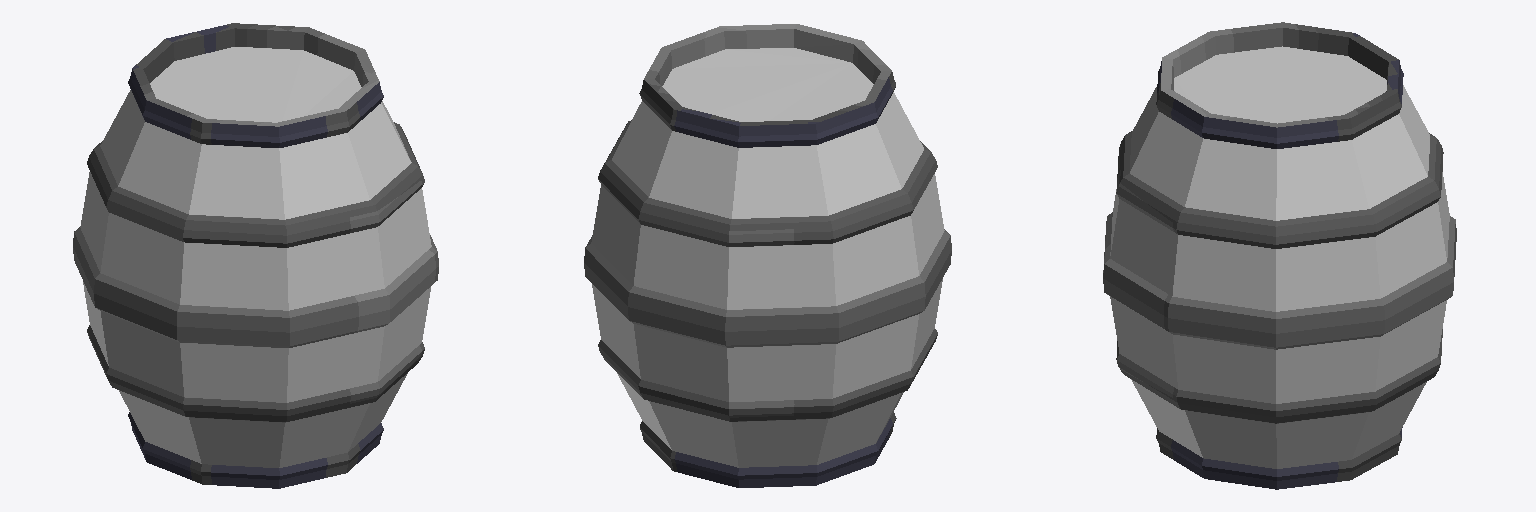
3 views of the same model, side by side, from view 1: azimuth 30°, elevation 25°; view 2: azimuth 150°, elevation 25°; view 3: azimuth 270°, elevation 25° (orthographic).
Parts seen in each view (by area): view 1: CylinderV2_Cylinder.002; view 2: CylinderV2_Cylinder.002; view 3: CylinderV2_Cylinder.002.
Part boxes in pixels (left/top/right/bottom): CylinderV2_Cylinder.002: left=73, top=23, right=438, bottom=488; CylinderV2_Cylinder.002: left=584, top=24, right=951, bottom=487; CylinderV2_Cylinder.002: left=1103, top=22, right=1456, bottom=489.
Bounding box in the file's own units: 1.97 × 2.13 × 1.89.
Materials: 2 (1 with a texture image).